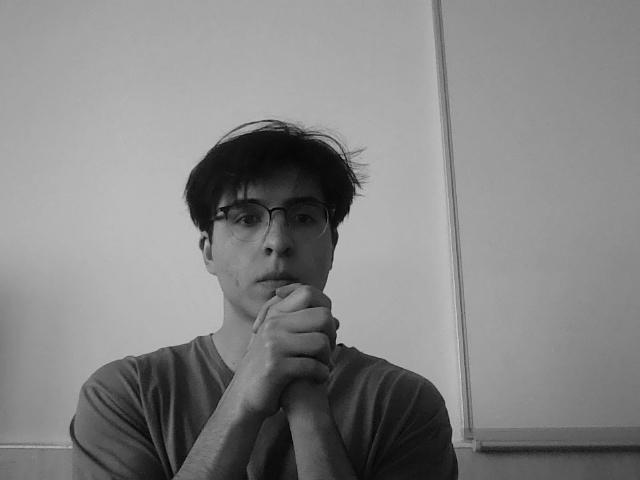friend: (218, 278, 340, 433)
